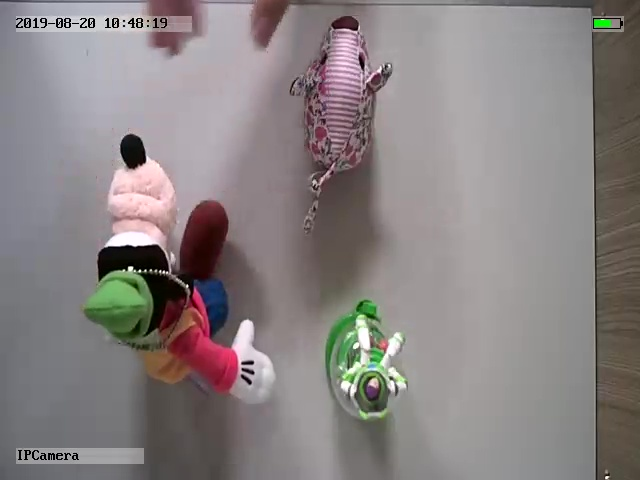buzz: (322, 299, 410, 423)
goofy: (82, 131, 278, 405)
pig: (287, 16, 396, 236)
